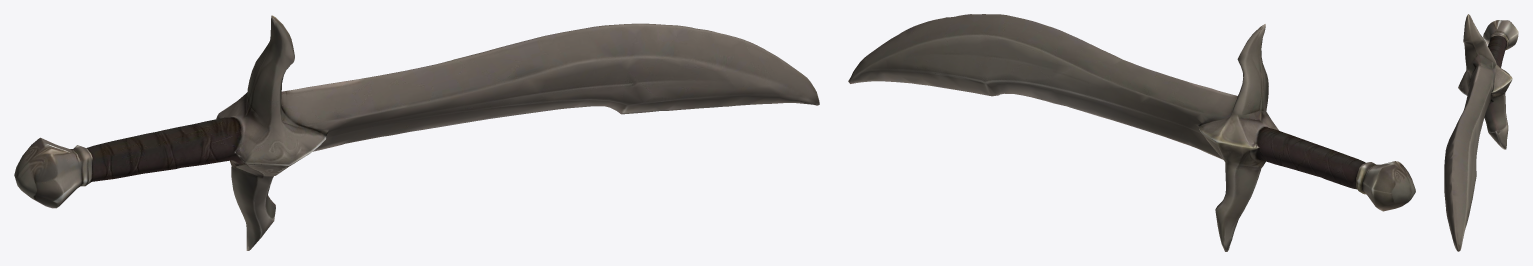
File: TitaniumSword.glb
The picture shows the model from 3 angles, left to right: view 1: azimuth 30°, elevation 25°; view 2: azimuth 150°, elevation 25°; view 3: azimuth 270°, elevation 25°; orthographic projection. The views are drawn at different scales.
Visible parts, largest first — view 1: Mesh_0.002; view 2: Mesh_0.002; view 3: Mesh_0.002.
Boxes of the visible parts, bbox=[...] form: Mesh_0.002: bbox=[14, 15, 819, 250]; Mesh_0.002: bbox=[848, 14, 1415, 251]; Mesh_0.002: bbox=[1444, 14, 1518, 251].
Bounding box in the file's own units: 0.9517 × 0.3177 × 0.1615.
Materials: 1 (1 with a texture image).
